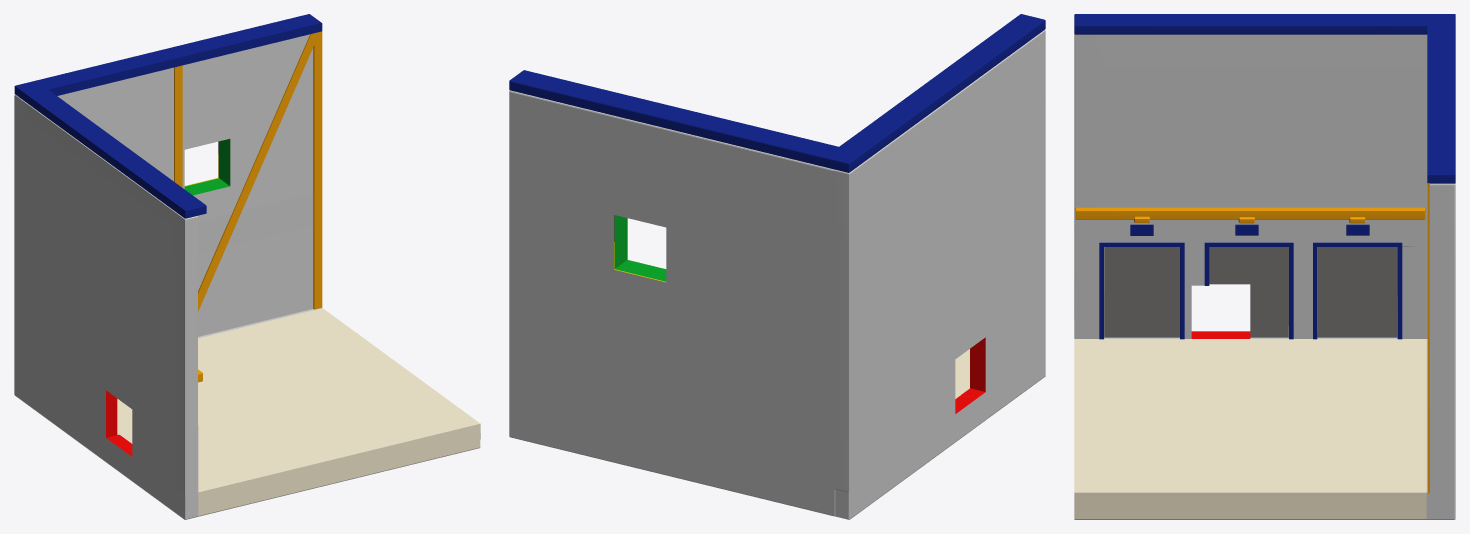
The model's file is cube_sta7.fbx.
3 renders of one model, left to right at view 1: azimuth 30°, elevation 25°; view 2: azimuth 150°, elevation 25°; view 3: azimuth 270°, elevation 25°, orthographic. The views are drawn at different scales.
Parts seen in each view (by area): view 1: polySurface67; view 2: polySurface67; view 3: polySurface67.
Part boxes in pixels (x1,y1,x2,y2): polySurface67: [14, 14, 480, 519]; polySurface67: [509, 14, 1045, 519]; polySurface67: [1074, 14, 1455, 519].
Size of the model in its own units: 6.49 by 6.5 by 6.5.
Materials: 8 (1 with a texture image).
